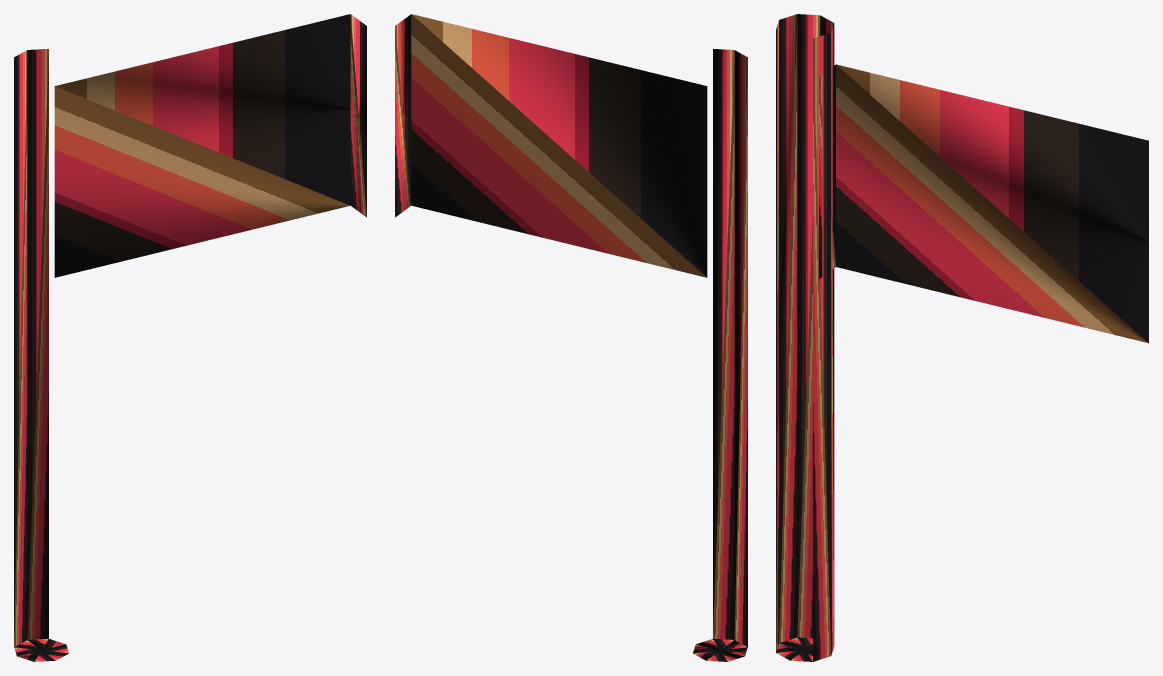
Rendered from flag.glb.
The picture shows the model from 3 angles, left to right: view 1: azimuth 30°, elevation 25°; view 2: azimuth 150°, elevation 25°; view 3: azimuth 330°, elevation 25°; orthographic projection. The views are drawn at different scales.
Parts seen in each view (by area): view 1: flag; view 2: flag; view 3: flag.
Part boxes in pixels (x1,y1,x2,y2): flag: (14,14,366,661); flag: (395,14,747,661); flag: (776,14,1148,661).
Bounding box in the file's own units: 0.485 × 0.8 × 0.07.
1 material, 1 textured.
